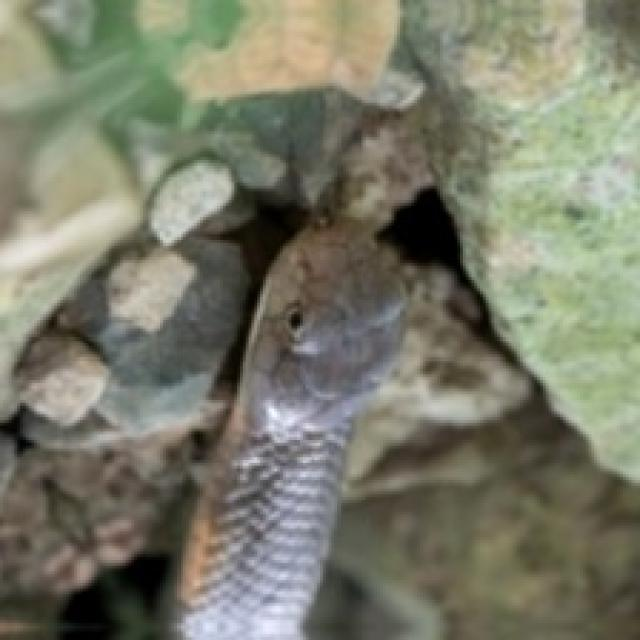king cobra: (179, 224, 408, 640)
